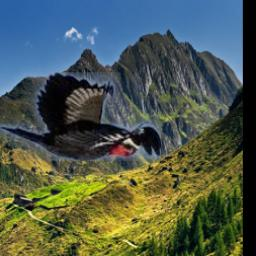Woodpecker: (0, 73, 161, 162)
